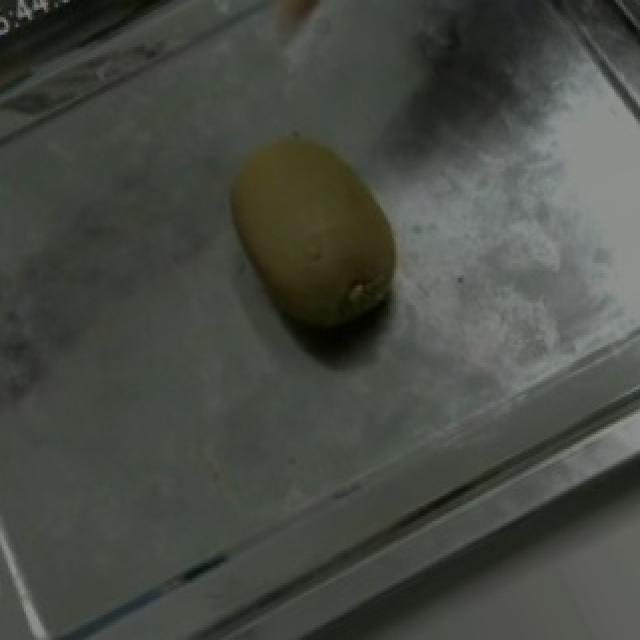Fruit: (190, 102, 438, 382)
